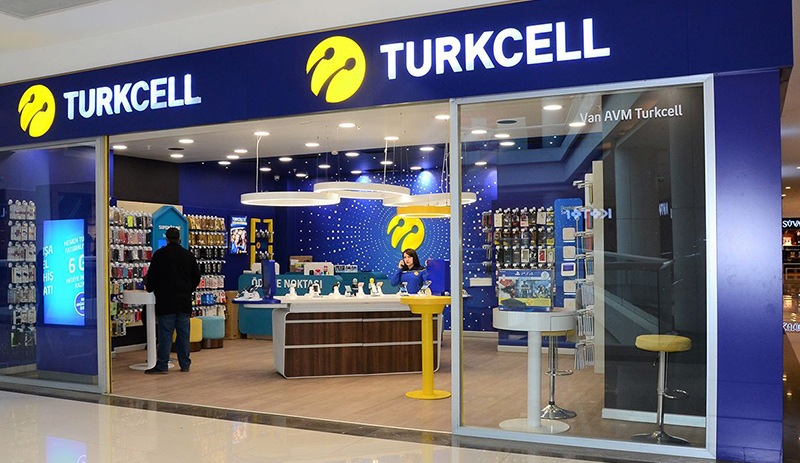turkcell: (306, 33, 365, 104), (15, 82, 56, 139), (387, 214, 426, 252)
